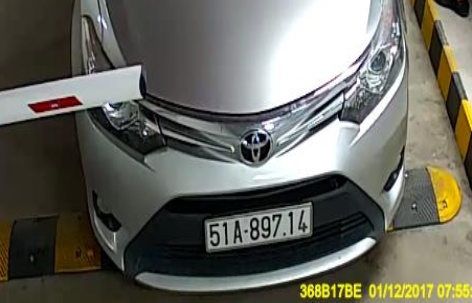plate: (199, 206, 312, 249)
